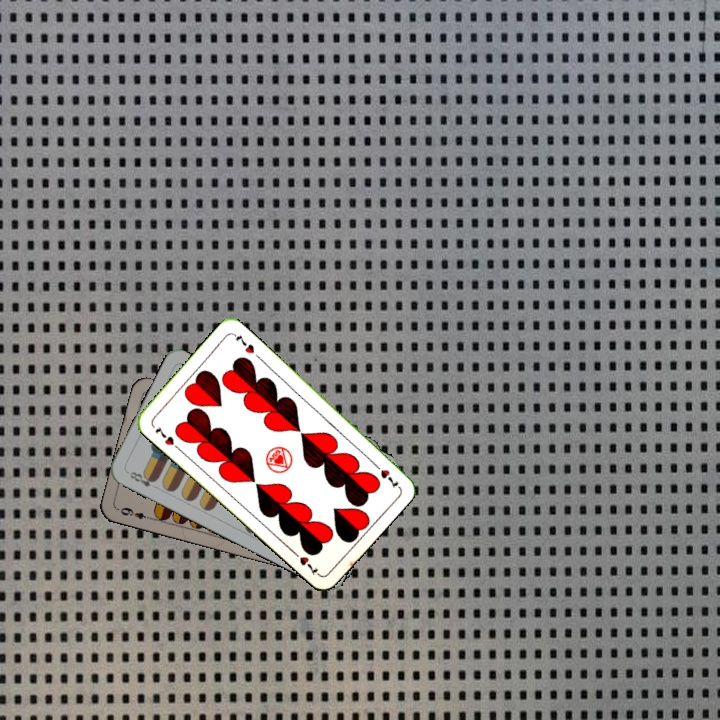E8: (125, 467, 159, 490)
E9: (114, 503, 154, 522)
H7: (369, 458, 401, 490), (151, 422, 182, 452)
